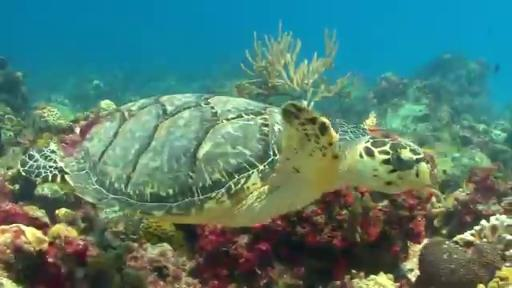Fish: (20, 94, 431, 226)
